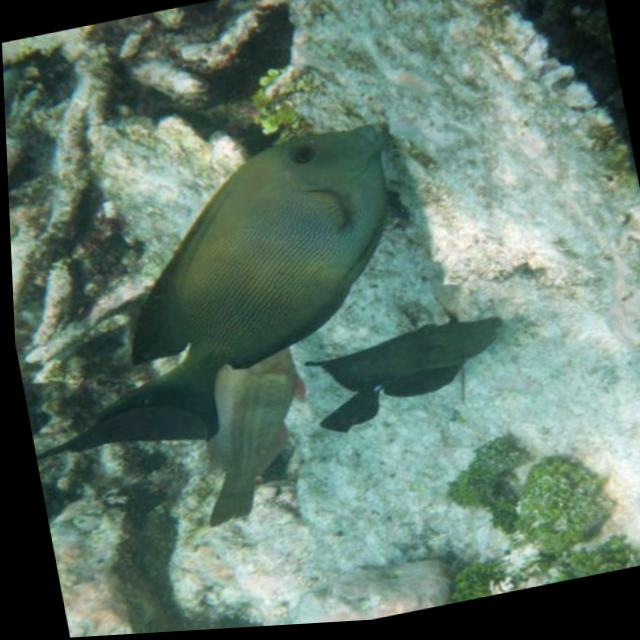Dead Coral: (1, 24, 159, 529), (0, 0, 308, 194)
